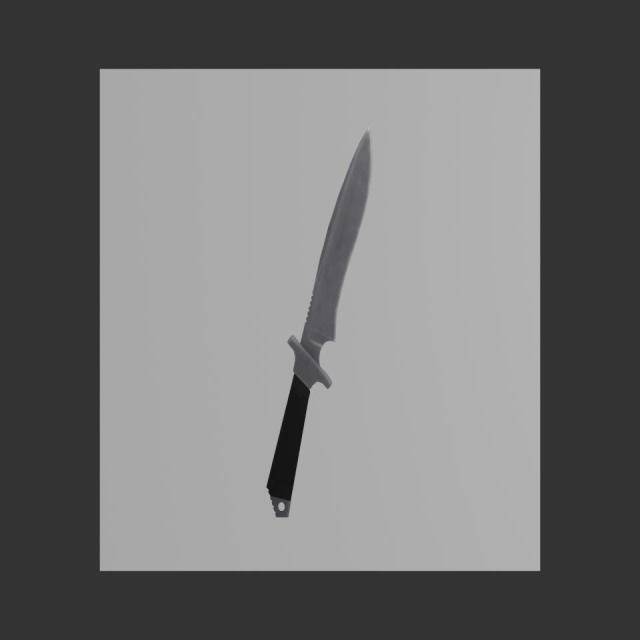knife: (266, 373, 310, 518)
